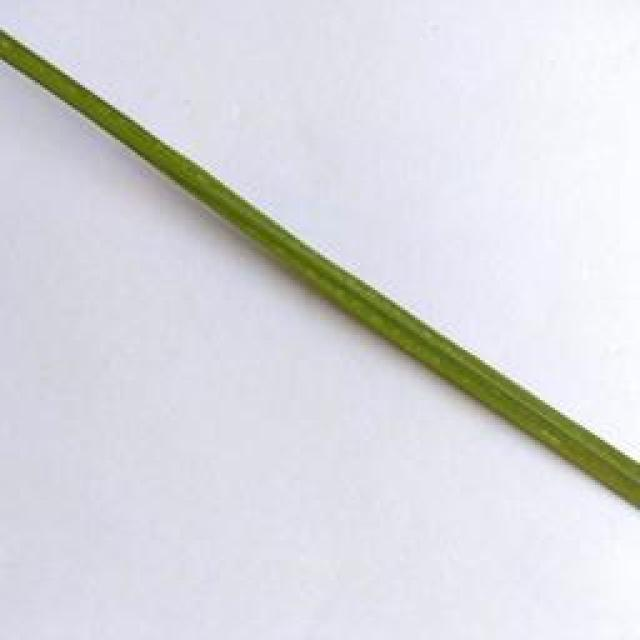Healthy-Plant: (0, 31, 640, 508)
